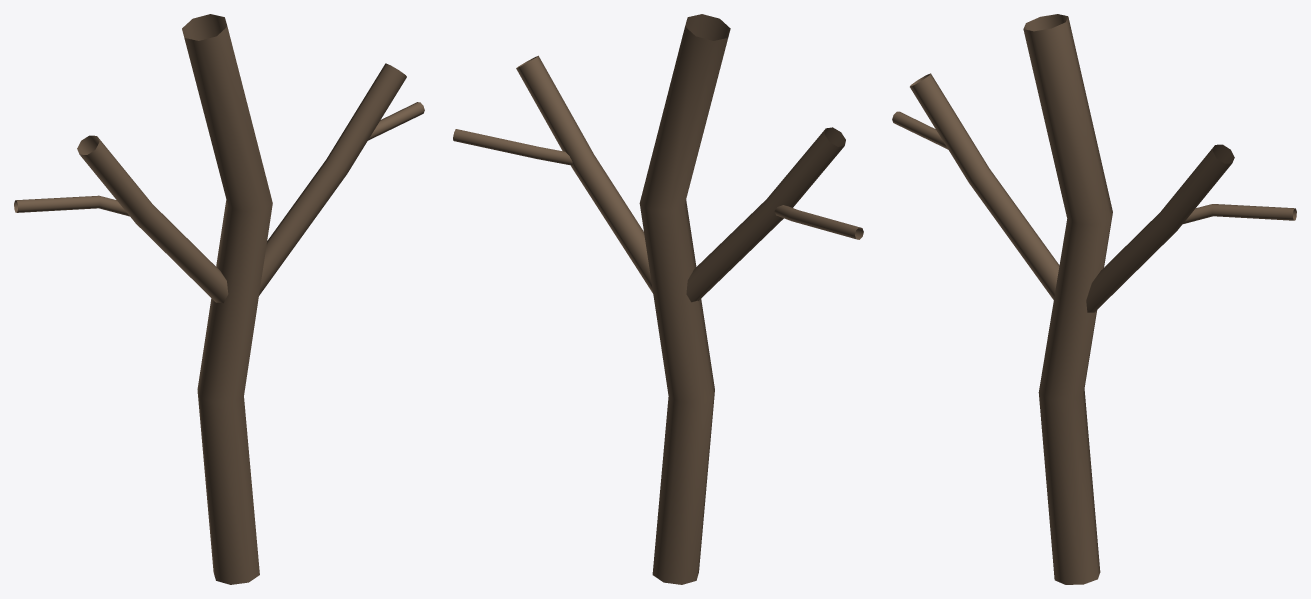
The model's file is SM_CityDeadTree.fbx.
3 renders of one model, left to right at view 1: azimuth 30°, elevation 25°; view 2: azimuth 150°, elevation 25°; view 3: azimuth 330°, elevation 25°, orthographic.
Visible parts, largest first — view 1: SM_CityDeadTree; view 2: SM_CityDeadTree; view 3: SM_CityDeadTree.
Part boxes in pixels (bbox=[...]): SM_CityDeadTree: bbox=[14, 14, 424, 584]; SM_CityDeadTree: bbox=[453, 14, 863, 584]; SM_CityDeadTree: bbox=[892, 14, 1296, 584].
Bounding box in the file's own units: 127 × 18.25 × 167.
